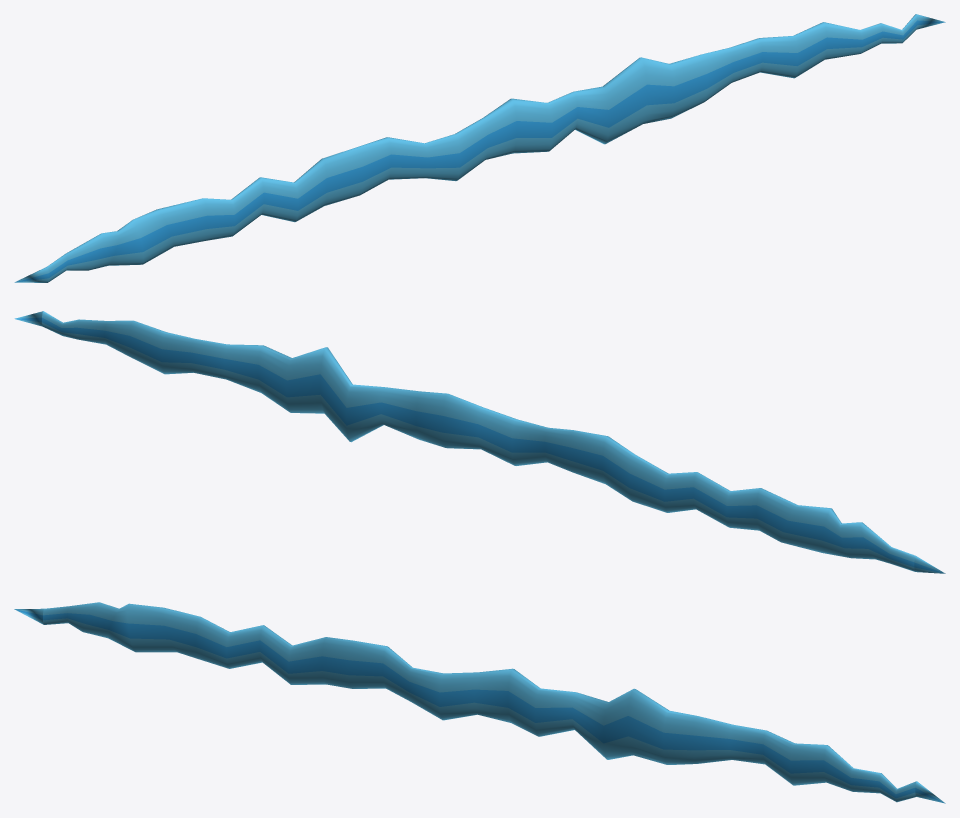
Rendered from Thunder.fbx.
3 views of the same model, one above another, from view 1: azimuth 30°, elevation 25°; view 2: azimuth 150°, elevation 25°; view 3: azimuth 330°, elevation 25° (orthographic).
Parts seen in each view (by area): view 1: Thunder; view 2: Thunder; view 3: Thunder.
Part boxes in pixels (x1,y1,x2,y2): Thunder: (14, 14, 945, 282); Thunder: (14, 311, 945, 573); Thunder: (14, 602, 945, 803).
Bounding box in the file's own units: 1386 × 121 × 46.06.
